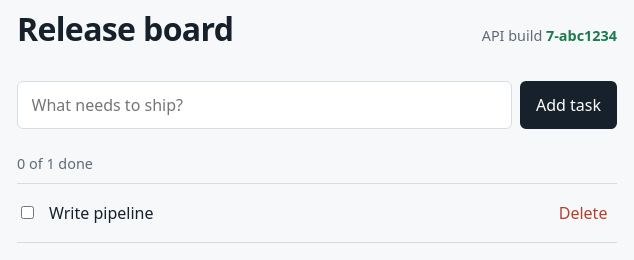
Test: App › marks a task as done
The width and height of the screenshot is (634, 260).
Expected: the text "Write pipeline" is shown, [49,201,153,225]
Click the checkbox at x=28, y=213, box [21,206,34,219]
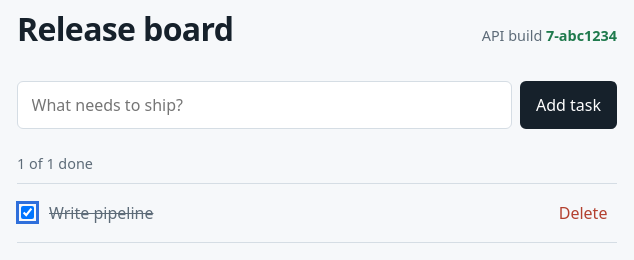
Expected: the checkbox is checked, [21,206,34,219]
Expected: the text "1 of 1 done" is shown, [17,154,93,173]
